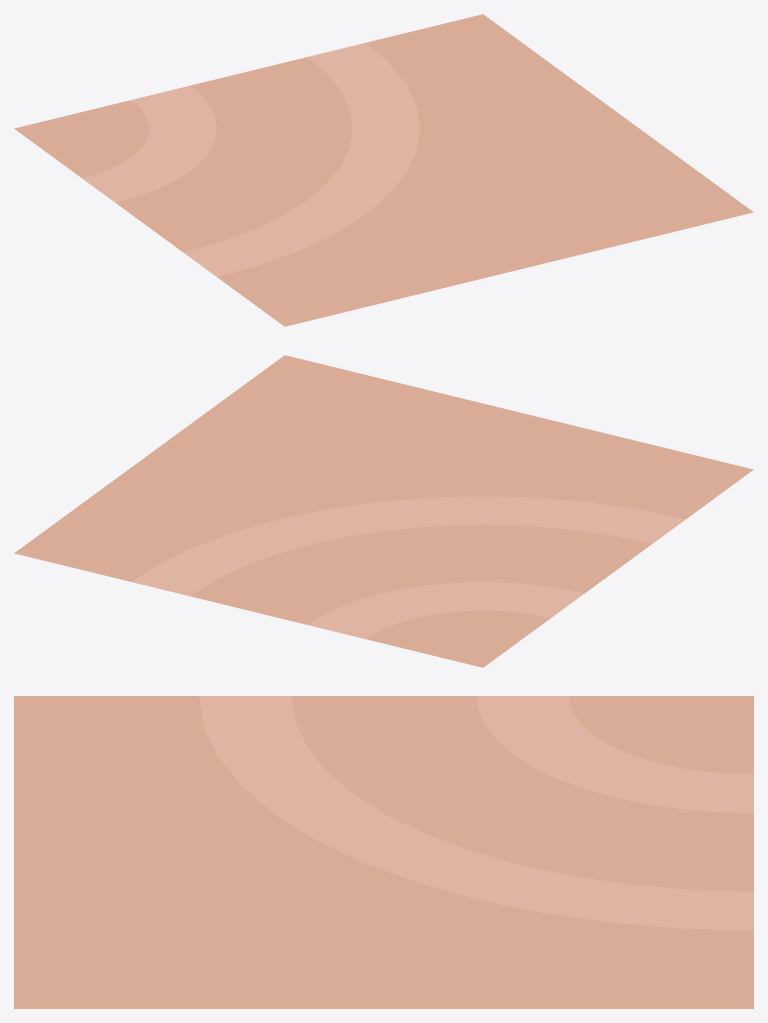
File: terrain_roadCorner.glb
The picture shows the model from 3 angles, top to bottom: view 1: azimuth 30°, elevation 25°; view 2: azimuth 150°, elevation 25°; view 3: azimuth 270°, elevation 25°; orthographic projection. The views are drawn at different scales.
Parts seen in each view (by area): view 1: terrain_roadCorner; view 2: terrain_roadCorner; view 3: terrain_roadCorner.
Boxes of the visible parts, bbox=[...] form: terrain_roadCorner: bbox=[14, 14, 753, 326]; terrain_roadCorner: bbox=[14, 355, 753, 667]; terrain_roadCorner: bbox=[14, 696, 753, 1008].
Bounding box in the file's own units: 1 × 0 × 1.
